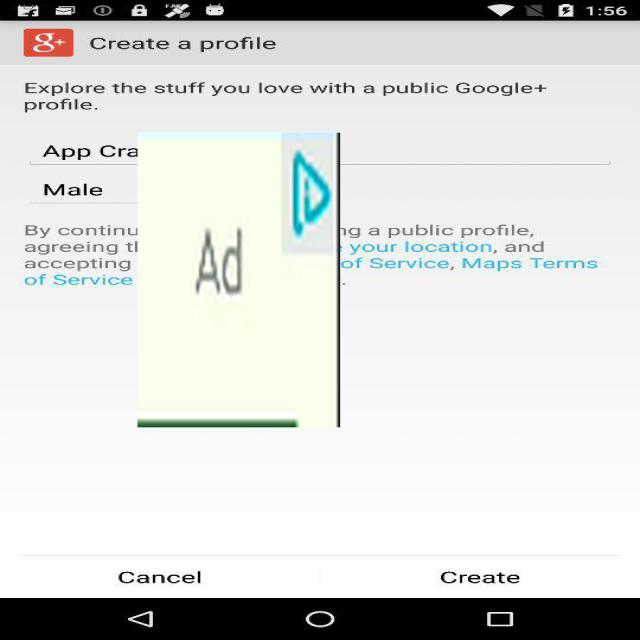sneaking: (138, 133, 340, 427)
